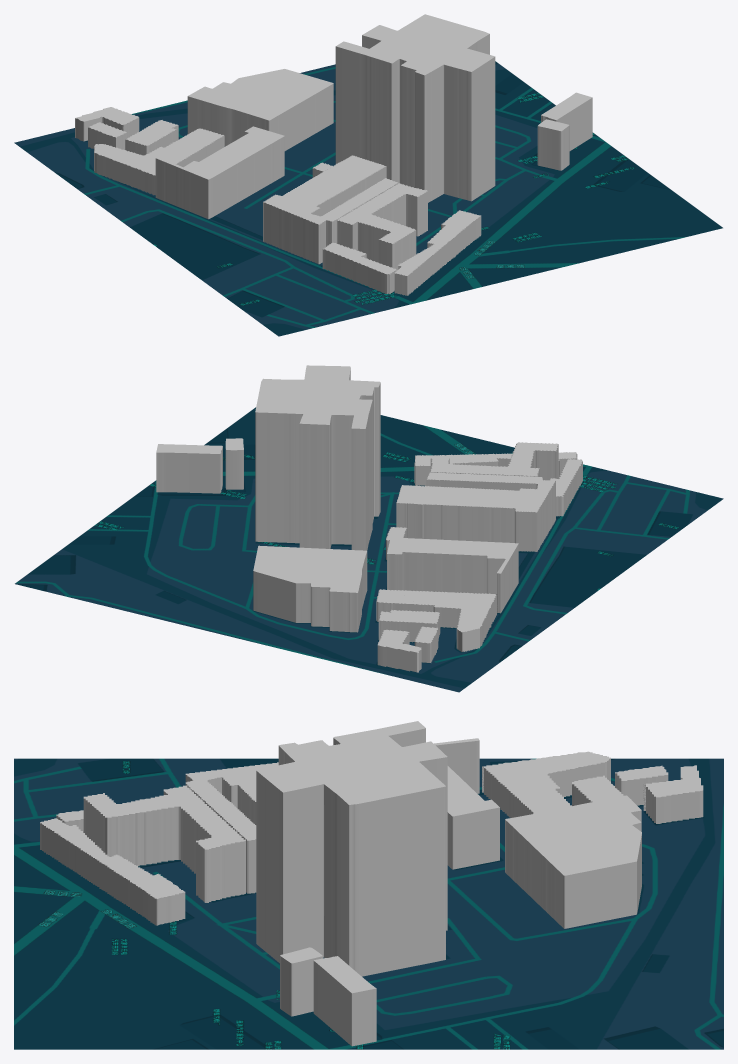
3 views of the same model, one above another, from view 1: azimuth 30°, elevation 25°; view 2: azimuth 150°, elevation 25°; view 3: azimuth 270°, elevation 25° (orthographic). The views are drawn at different scales.
Visible parts, largest first — view 1: 底图.001, 门急诊, 其他楼, 5号楼, 3号楼, 4号楼, 2号楼, 宿舍楼; view 2: 底图.001, 门急诊, 其他楼, 3号楼, 5号楼, 4号楼, 宿舍楼, 2号楼; view 3: 底图.001, 门急诊, 其他楼, 5号楼, 2号楼, 宿舍楼, 4号楼, 3号楼.
Boxes of the visible parts, left/top/right/bottom form: 底图.001: left=14, top=61, right=722, bottom=336; 门急诊: left=335, top=14, right=495, bottom=202; 其他楼: left=75, top=107, right=481, bottom=295; 5号楼: left=187, top=69, right=333, bottom=150; 3号楼: left=263, top=155, right=398, bottom=264; 4号楼: left=155, top=126, right=284, bottom=219; 2号楼: left=336, top=183, right=427, bottom=270; 宿舍楼: left=537, top=92, right=592, bottom=170; 底图.001: left=15, top=407, right=723, bottom=692; 门急诊: left=255, top=365, right=380, bottom=550; 其他楼: left=376, top=452, right=582, bottom=672; 3号楼: left=396, top=472, right=555, bottom=551; 5号楼: left=253, top=545, right=367, bottom=632; 4号楼: left=387, top=537, right=518, bottom=613; 宿舍楼: left=156, top=438, right=243, bottom=493; 2号楼: left=430, top=442, right=558, bottom=480; 底图.001: left=14, top=758, right=723, bottom=1049; 门急诊: left=256, top=721, right=447, bottom=976; 其他楼: left=40, top=751, right=703, bottom=925; 5号楼: left=505, top=795, right=641, bottom=928; 2号楼: left=83, top=785, right=245, bottom=902; 宿舍楼: left=280, top=947, right=376, bottom=1046; 4号楼: left=434, top=738, right=499, bottom=869; 3号楼: left=185, top=762, right=278, bottom=893.
Size of the model in its own units: 3.53 by 0.98 by 3.64.
Materials: 2 (1 with a texture image).
